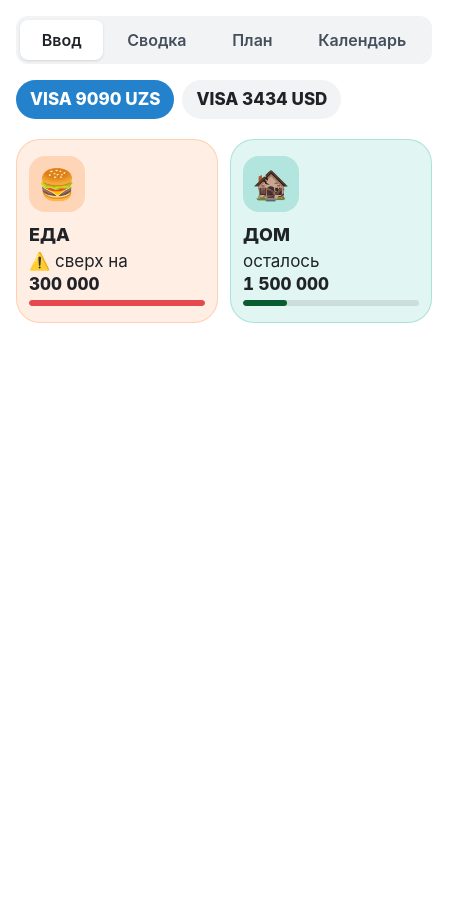
Test: App › switches to the dashboard
Click the tab "Сводка".
click(157, 40)  # box [105,20,208,60]
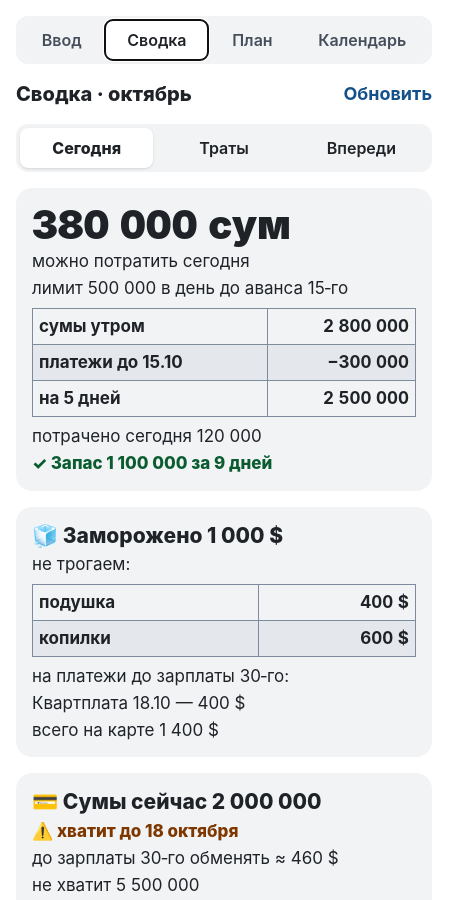
Result: the element named "Можно сегодня" is shown at [16,188,432,491]
